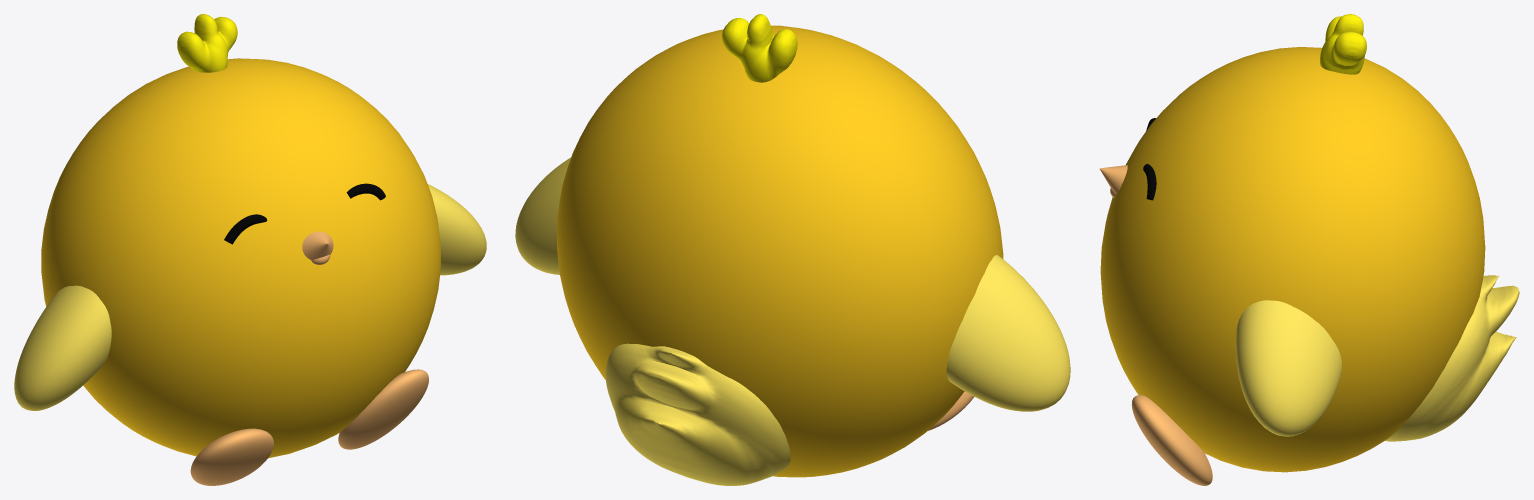
The model's file is cute_duck.glb.
The picture shows the model from 3 angles, left to right: view 1: azimuth 30°, elevation 25°; view 2: azimuth 150°, elevation 25°; view 3: azimuth 270°, elevation 25°; orthographic projection. The views are drawn at different scales.
Visible parts, largest first — view 1: Object_13, Object_19, Object_11, Object_9, Object_21, Object_25, Object_15; view 2: Object_13, Object_17, Object_19, Object_21, Object_25; view 3: Object_13, Object_21, Object_17, Object_11, Object_25, Object_15.
Part boxes in pixels (<box>): Object_13: <box>41,58,440,458</box>; Object_19: <box>14,285,111,410</box>; Object_11: <box>338,369,428,449</box>; Object_9: <box>190,428,273,485</box>; Object_21: <box>427,184,486,275</box>; Object_25: <box>177,14,237,72</box>; Object_15: <box>302,231,333,260</box>; Object_13: <box>557,25,1003,477</box>; Object_17: <box>605,343,790,485</box>; Object_19: <box>946,255,1070,411</box>; Object_21: <box>515,157,570,274</box>; Object_25: <box>722,14,797,82</box>; Object_13: <box>1100,47,1485,472</box>; Object_21: <box>1235,300,1341,436</box>; Object_17: <box>1385,275,1519,441</box>; Object_11: <box>1131,395,1212,485</box>; Object_25: <box>1320,14,1366,74</box>; Object_15: <box>1099,165,1127,193</box>.
Size of the model in its own units: 0.3836 by 0.3199 by 0.2813.
Materials: 8 (2 with a texture image).
